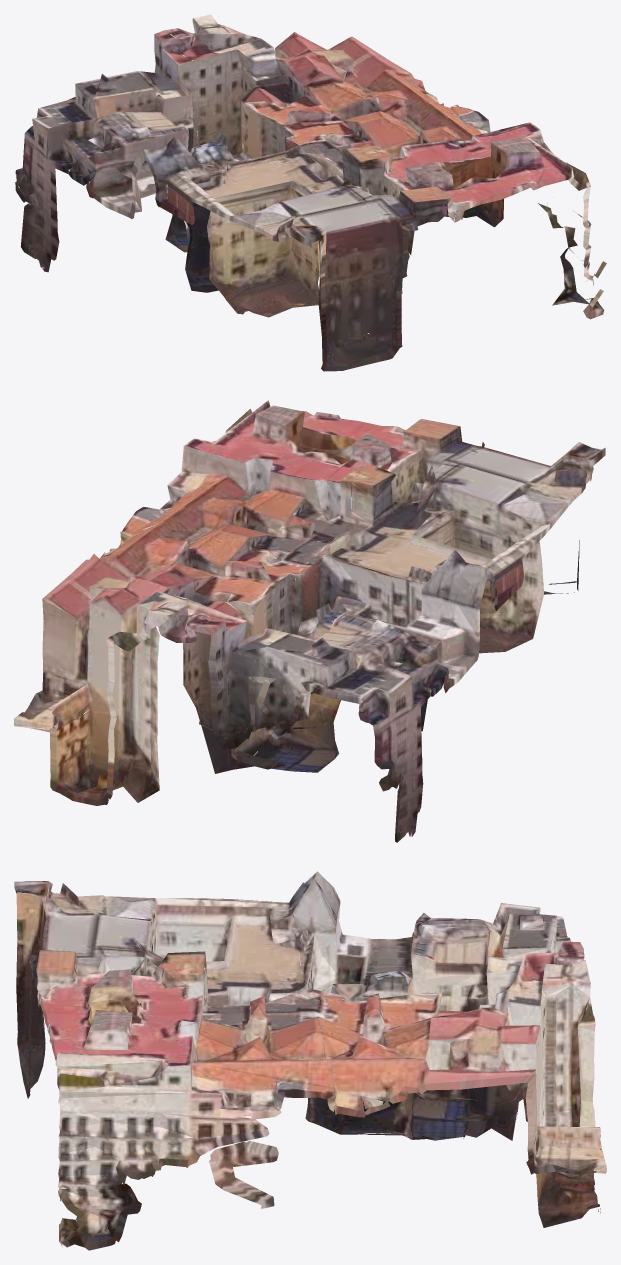
The picture shows the model from 3 angles, top to bottom: view 1: azimuth 30°, elevation 25°; view 2: azimuth 150°, elevation 25°; view 3: azimuth 270°, elevation 25°; orthographic projection. The views are drawn at different scales.
Parts seen in each view (by area): view 1: Mesh_0; view 2: Mesh_0; view 3: Mesh_0.
Boxes of the visible parts, x1,y1,x2,y2 form: Mesh_0: (15, 14, 606, 371); Mesh_0: (14, 400, 605, 842); Mesh_0: (14, 871, 606, 1250).
Size of the model in its own units: 67.46 by 34.47 by 82.56.
Materials: 1 (1 with a texture image).
